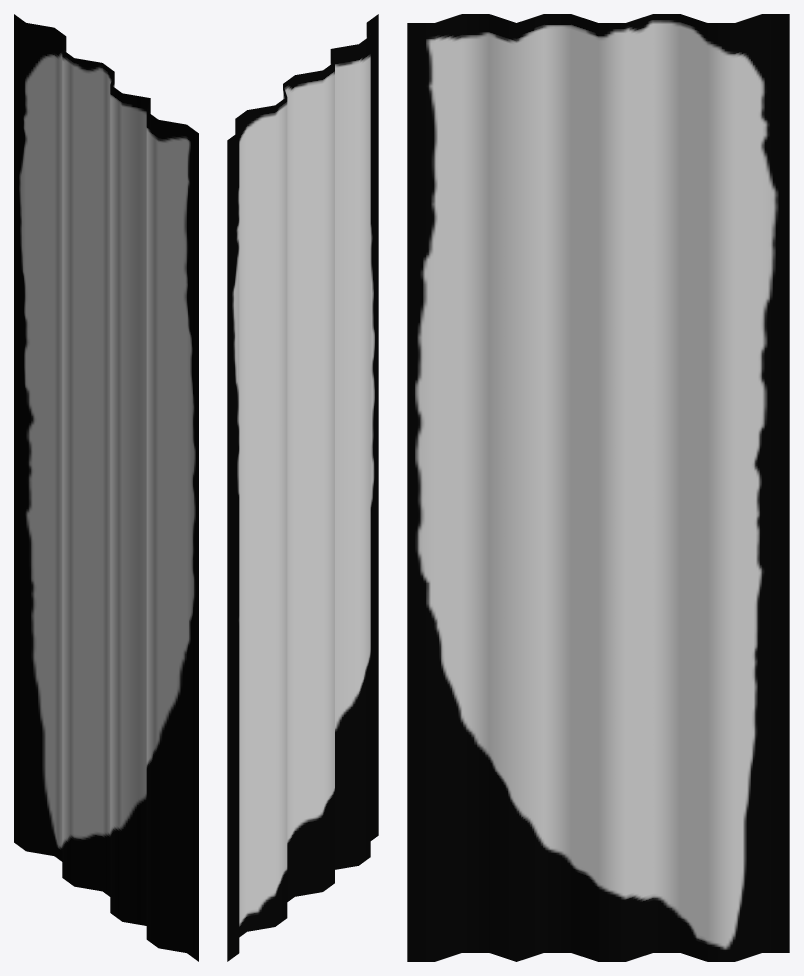
Rendered from MetalPlate5.FBX.
The picture shows the model from 3 angles, left to right: view 1: azimuth 30°, elevation 25°; view 2: azimuth 150°, elevation 25°; view 3: azimuth 270°, elevation 25°; orthographic projection. The views are drawn at different scales.
Parts seen in each view (by area): view 1: MetalPlate5; view 2: MetalPlate5; view 3: MetalPlate5.
Boxes of the visible parts, bbox=[...] form: MetalPlate5: bbox=[14, 14, 198, 961]; MetalPlate5: bbox=[227, 14, 378, 961]; MetalPlate5: bbox=[407, 14, 789, 961].
Size of the model in its own units: 1.42 by 25.48 by 69.07.
